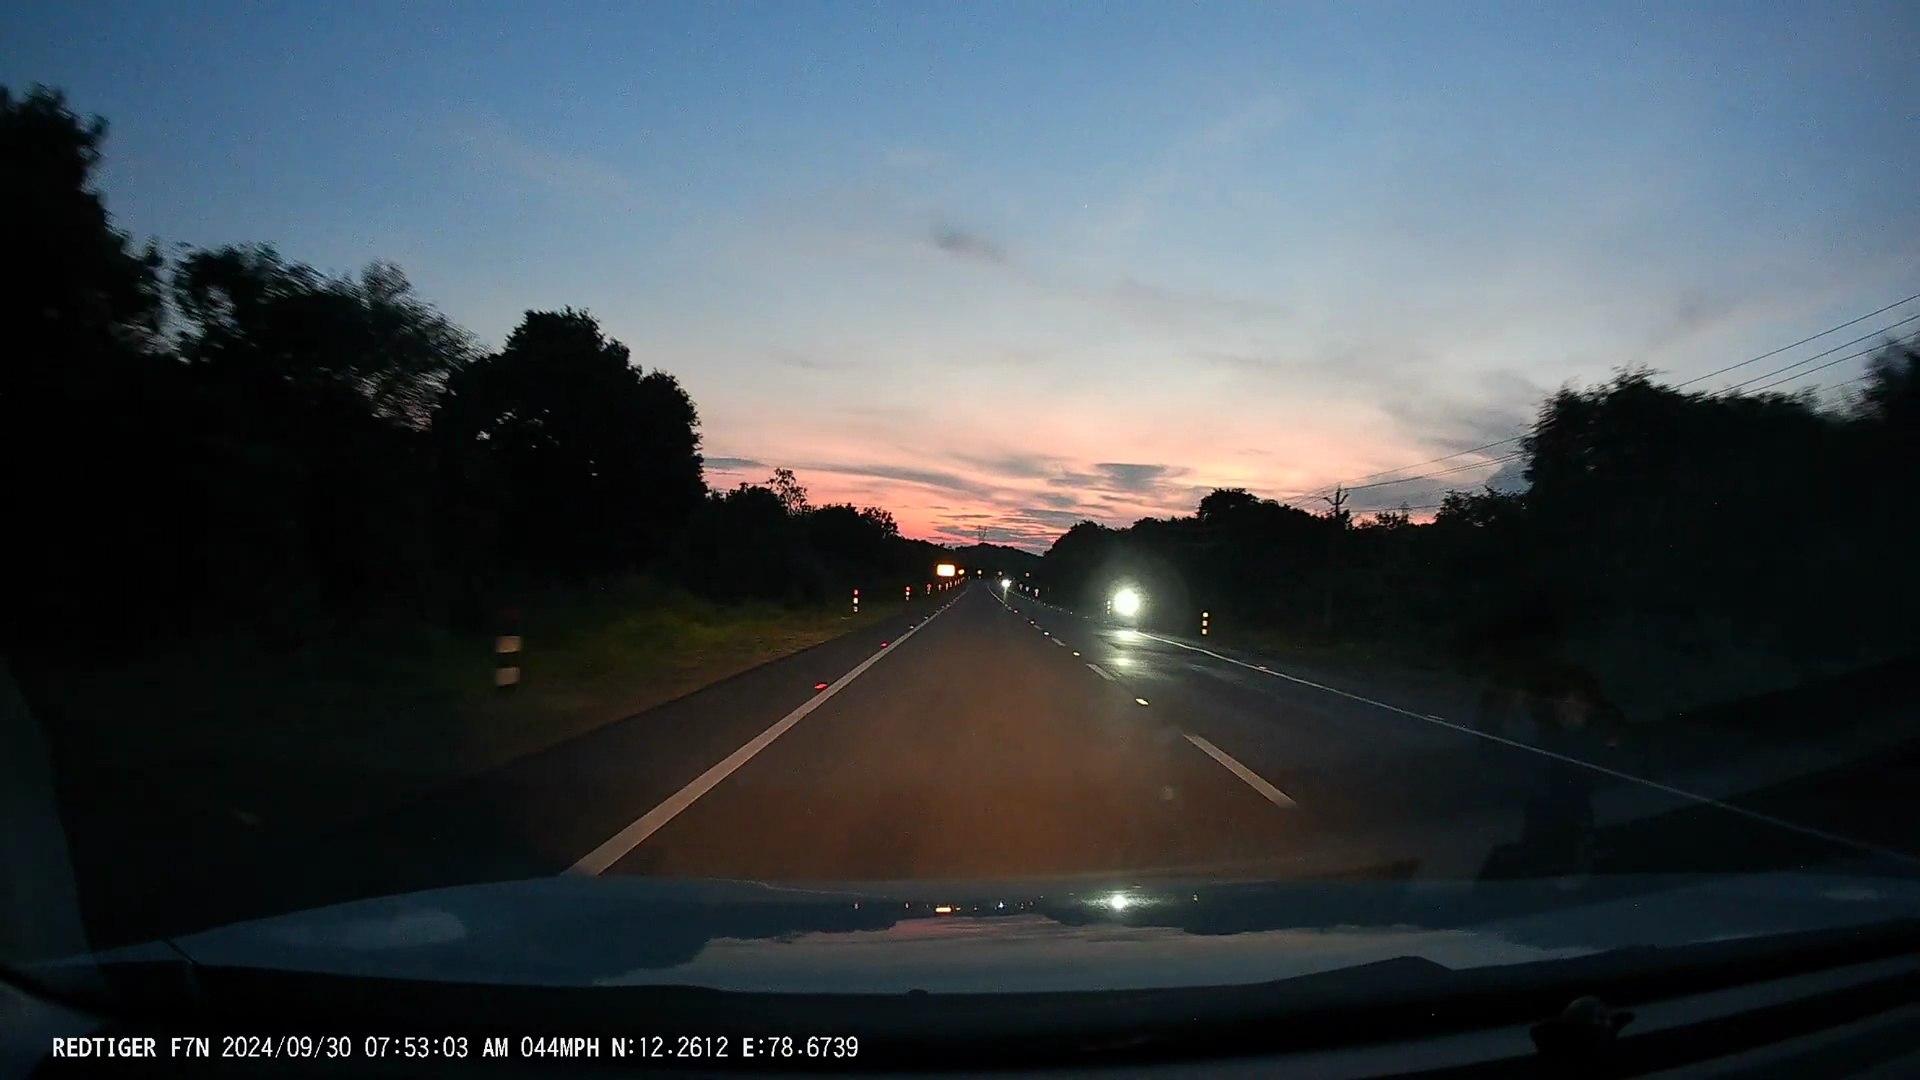headlight: (1112, 589, 1142, 615), (1001, 578, 1014, 593)
two wheeler: (1106, 564, 1143, 626), (1000, 568, 1013, 604)
